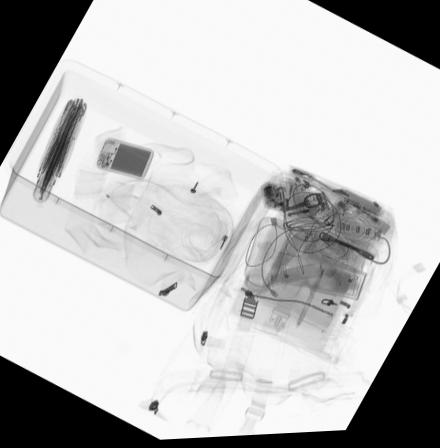Powerbank: (94, 138, 158, 183)
